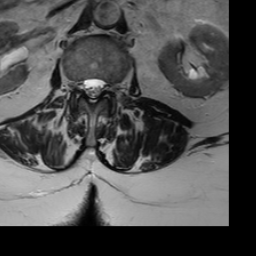CCS_normal: (88, 67, 97, 110)
LFS_normal: (106, 73, 114, 102)
LLS_normal: (97, 69, 106, 102)
RFS_normal: (71, 69, 80, 98)
RLS_normal: (80, 69, 88, 101)
